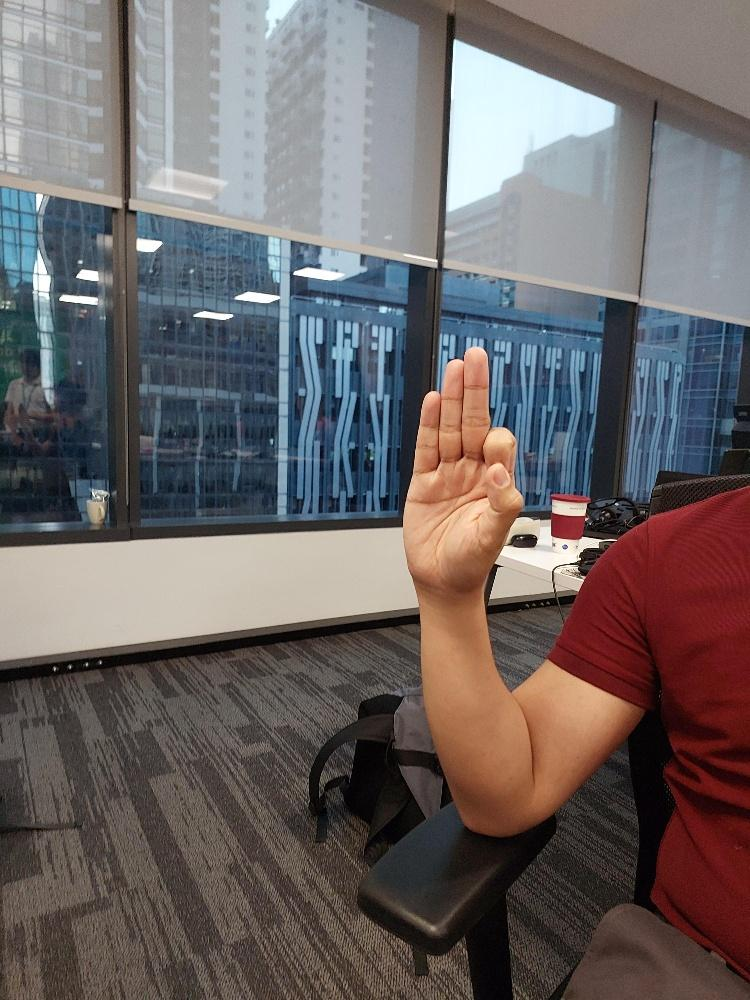f: (399, 341, 525, 603)
